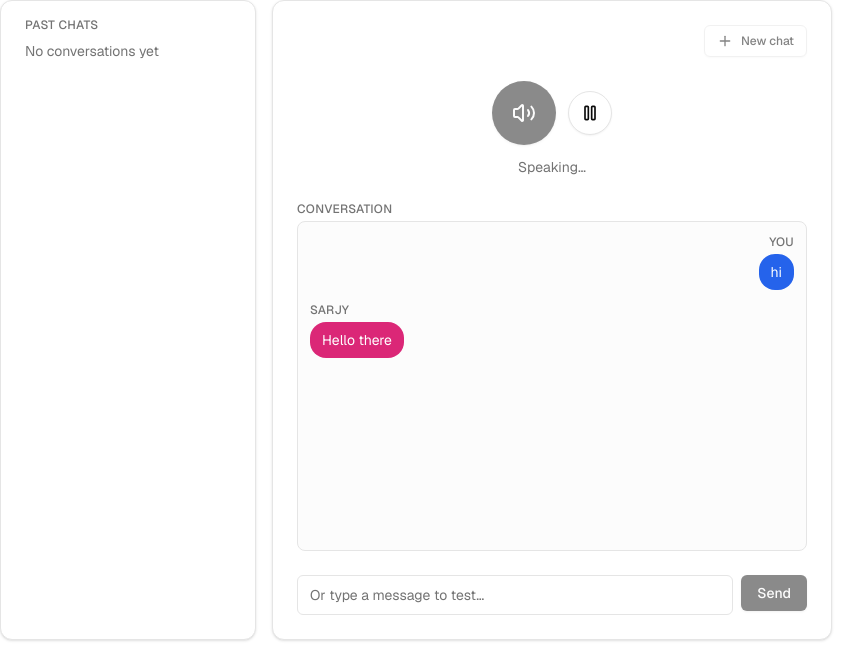
pause/resume › pauses and resumes speech synthesis
Expected: the text "Speaking…" is shown, [518,157,586,177]
Click the button named "pause" at (590, 113), box [568,91,612,135]
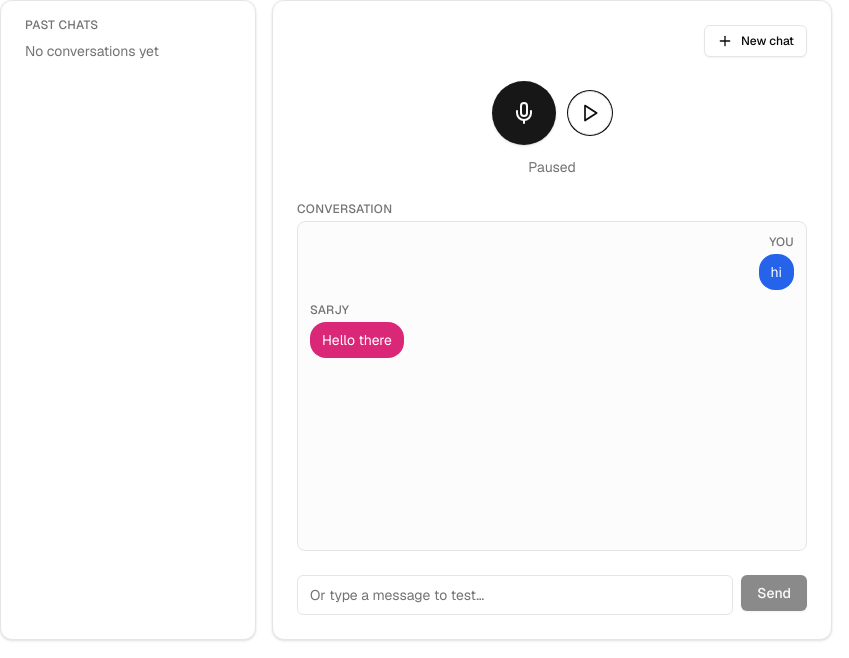
Expected: the text "Paused" is shown, [528,157,576,177]
Click the button named "resume" at (590, 113), box [568,91,612,135]
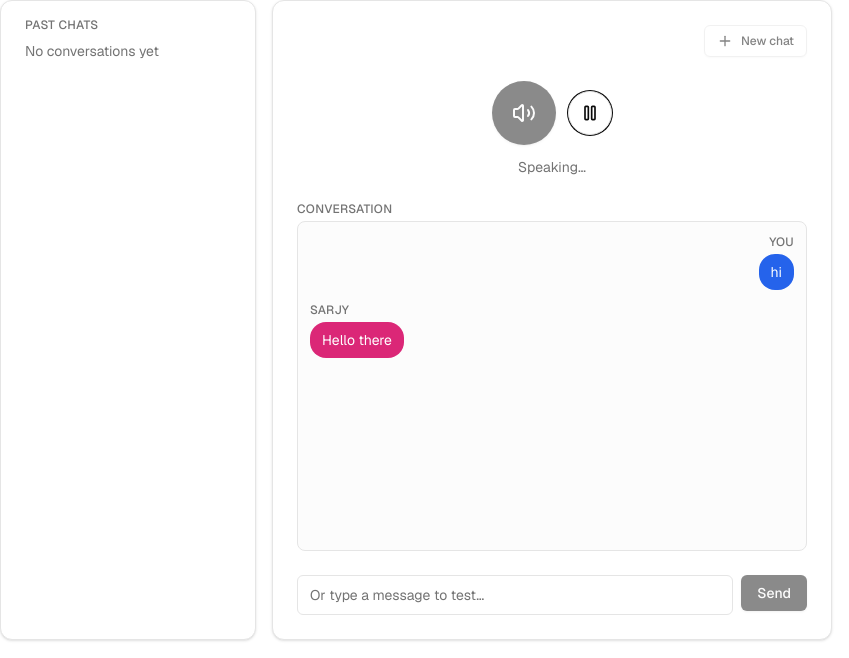
Expected: the text "Speaking…" is shown, [518,157,586,177]
